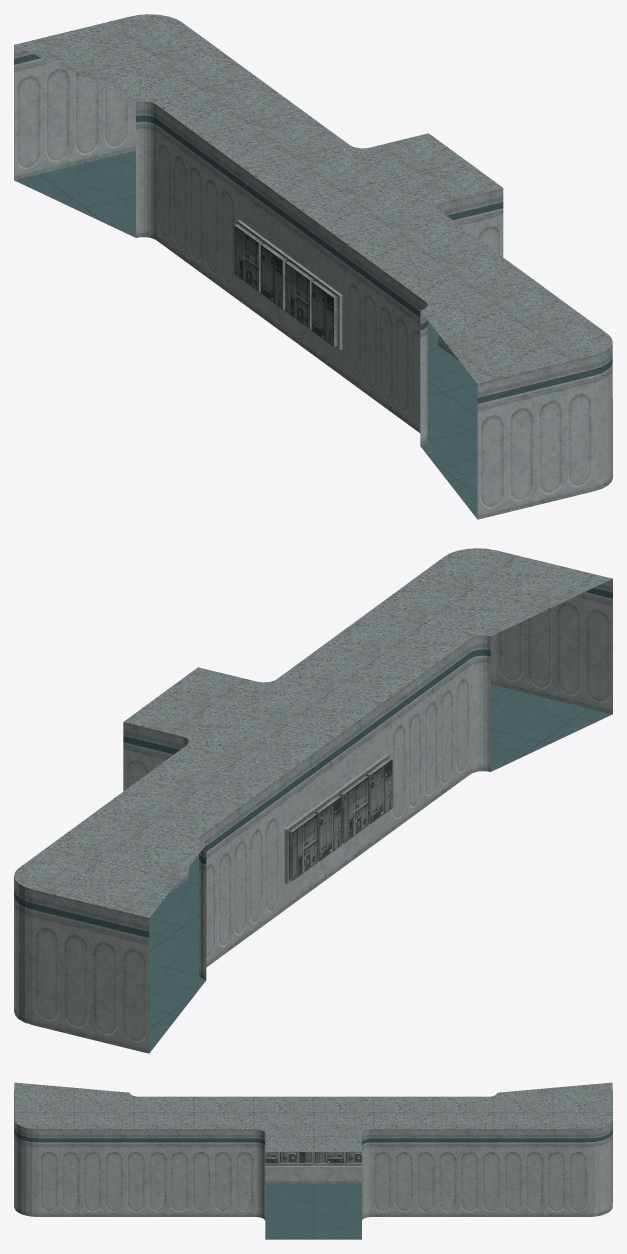
The model's file is mun_all_hospital_s01_r9_mesh.fbx.
3 renders of one model, top to bottom at view 1: azimuth 30°, elevation 25°; view 2: azimuth 150°, elevation 25°; view 3: azimuth 270°, elevation 25°, orthographic. The views are drawn at different scales.
Parts seen in each view (by area): view 1: mesh_node; view 2: mesh_node; view 3: mesh_node.
Part boxes in pixels (box(x1,y1,x2,y2)): mesh_node: box(14, 14, 612, 519); mesh_node: box(14, 548, 612, 1053); mesh_node: box(14, 1082, 612, 1239).
Size of the model in its own units: 8.5 by 5 by 30.99.
